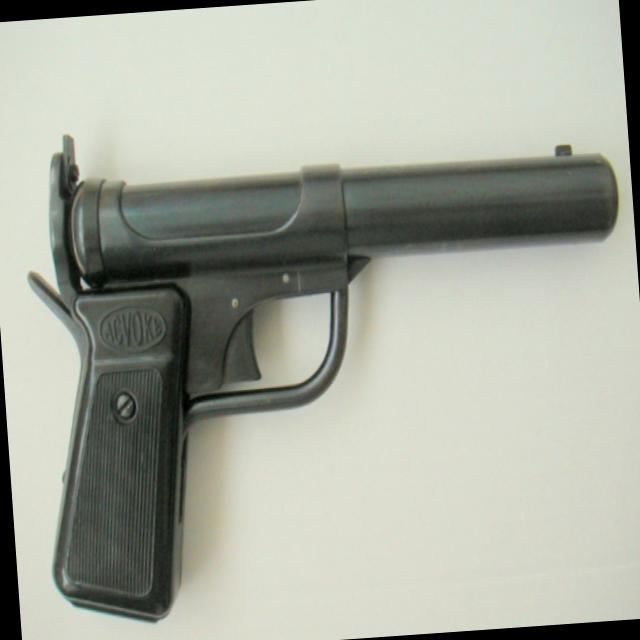handgun: (15, 91, 639, 621)
